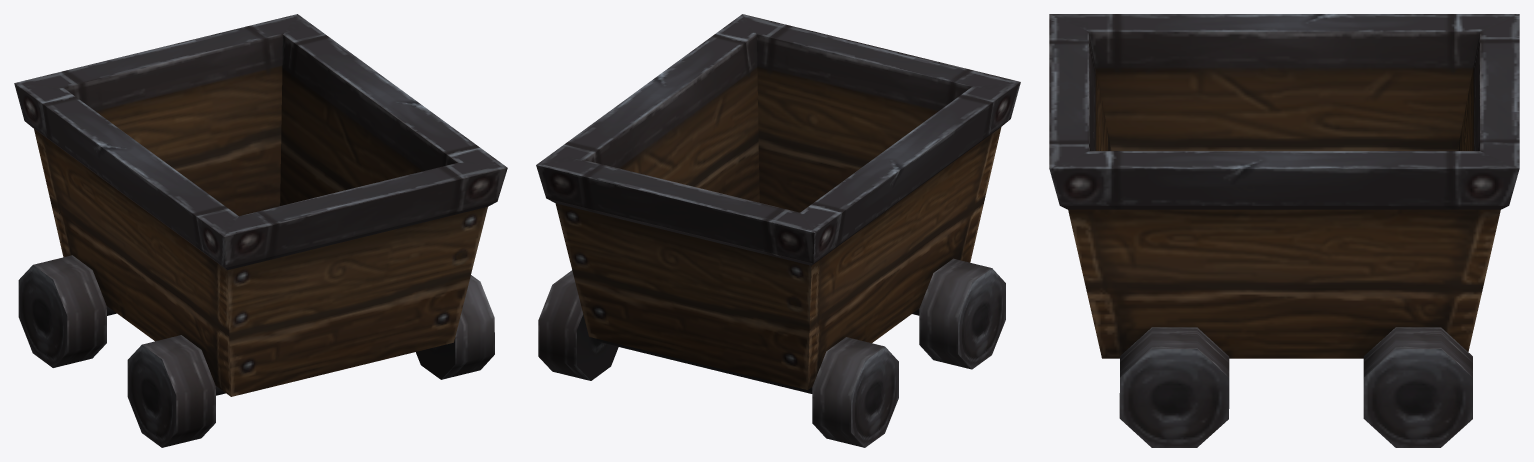
The model's file is Wagon_wagon.fbx.
3 views of the same model, side by side, from view 1: azimuth 30°, elevation 25°; view 2: azimuth 150°, elevation 25°; view 3: azimuth 270°, elevation 25° (orthographic). The views are drawn at different scales.
Visible parts, largest first — view 1: polySurface35; view 2: polySurface35; view 3: polySurface35.
Boxes of the visible parts, x1,y1,x2,y2 form: polySurface35: [14, 14, 507, 447]; polySurface35: [536, 14, 1020, 447]; polySurface35: [1049, 14, 1519, 447].
Bounding box in the file's own units: 1.16 × 0.8372 × 1.33.
1 material, 1 textured.
